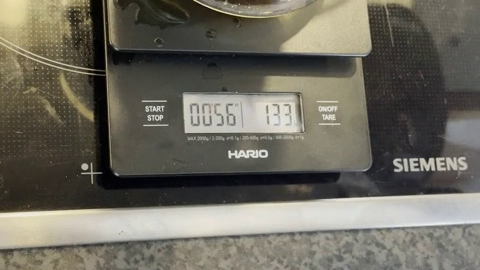display: (182, 92, 301, 132)
